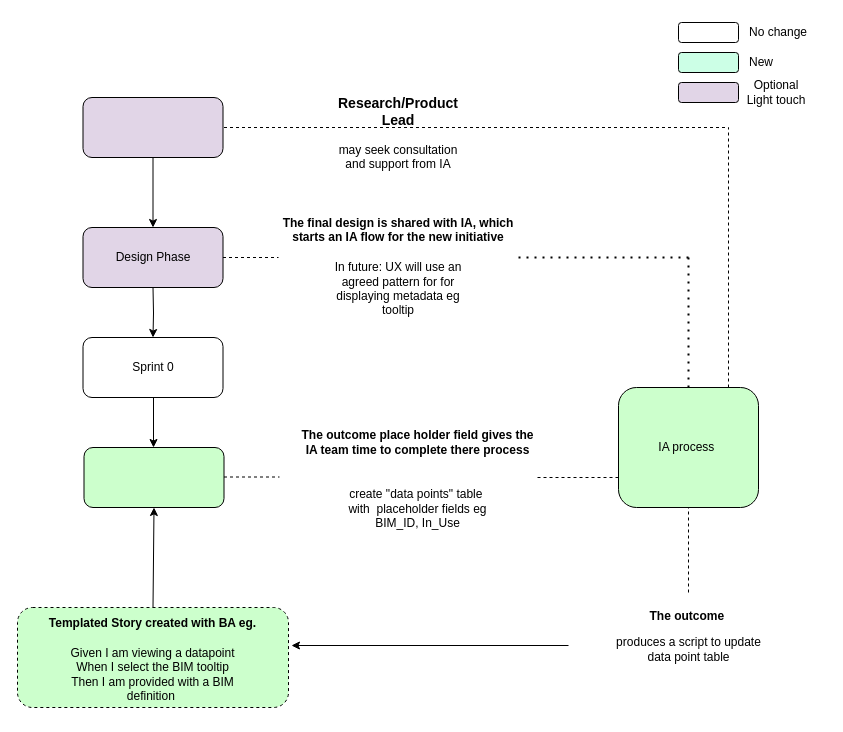
Some shapes in this 843 by 732 pixel diagram are drawn without their labels. The centre of each missing label's shape, as x and y in pixels:
"Build Phase" goes at [153,477].
"Discovery Phase" goes at [152,127].
